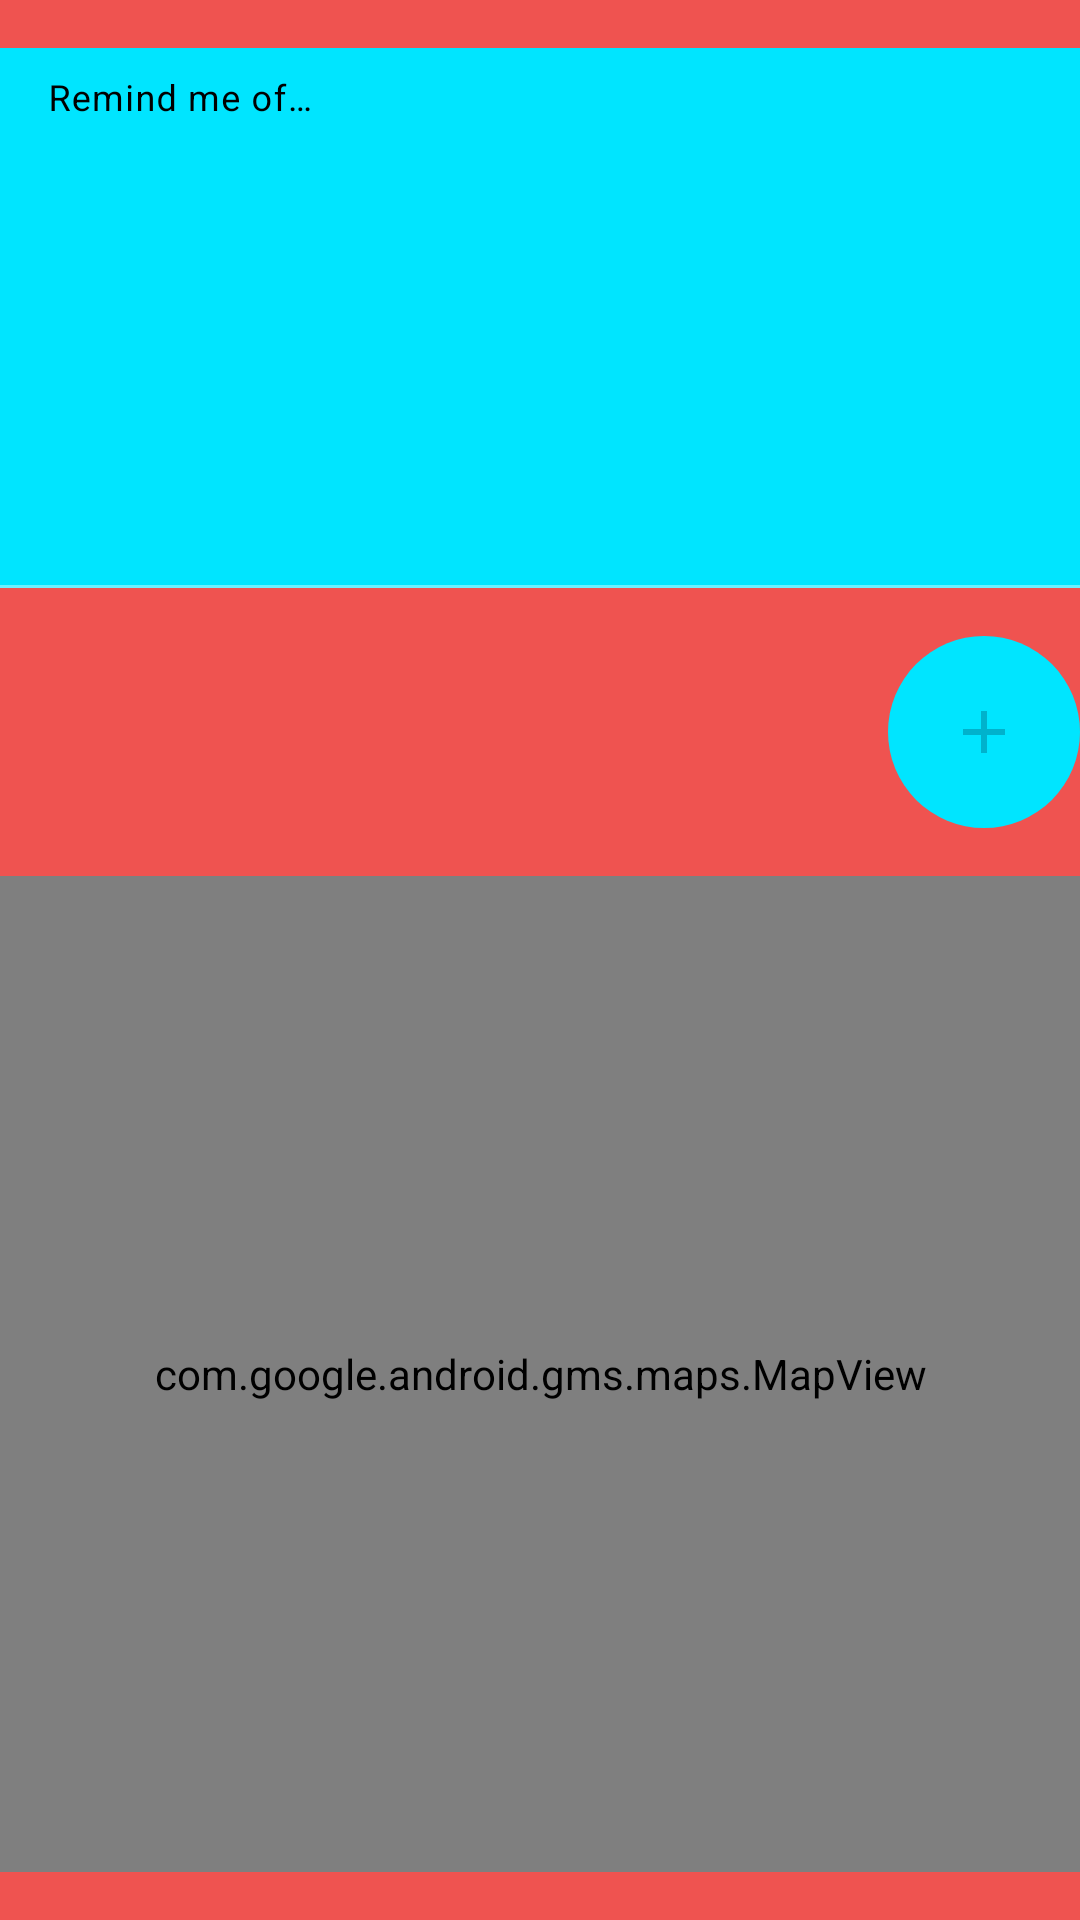

Screen size 1080x1920. Icon name, then its box in pixels as (x1, y1, x2, y2):
Add a new location: (888, 636, 1080, 828)
